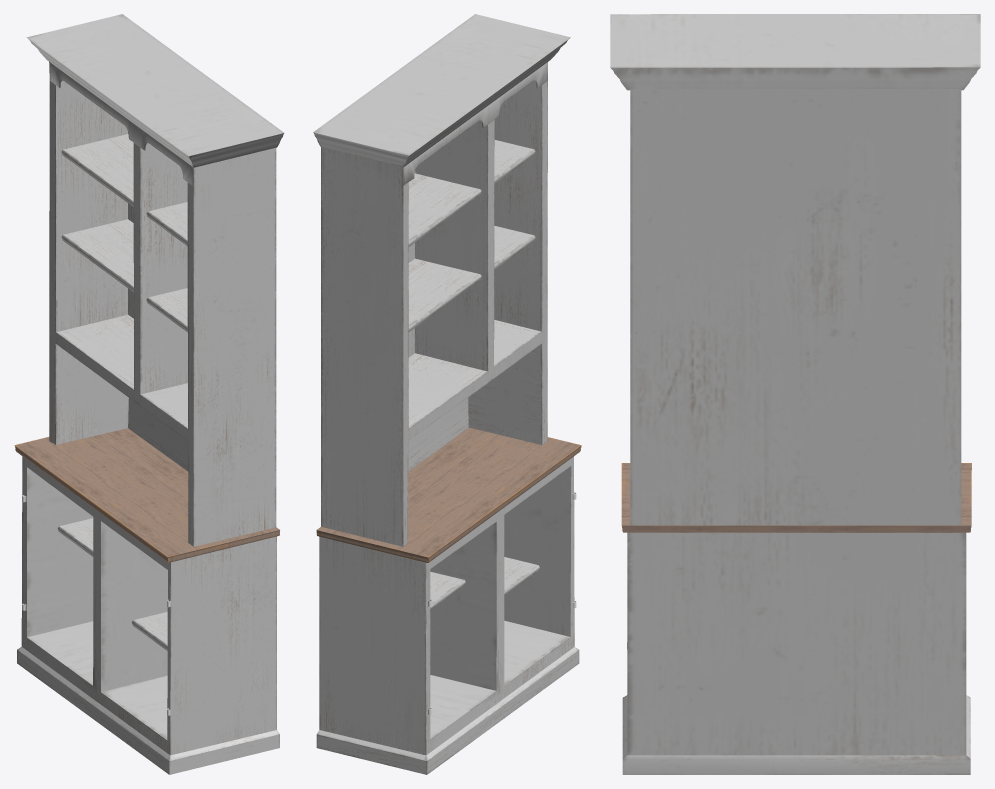
File: SM_BookShelf_A.fbx
3 renders of one model, left to right at view 1: azimuth 30°, elevation 25°; view 2: azimuth 150°, elevation 25°; view 3: azimuth 270°, elevation 25°, orthographic. The views are drawn at different scales.
Parts seen in each view (by area): view 1: SM_BookShelf_A; view 2: SM_BookShelf_A; view 3: SM_BookShelf_A.
Boxes of the visible parts, x1,y1,x2,y2 form: SM_BookShelf_A: [14, 14, 284, 774]; SM_BookShelf_A: [313, 14, 581, 774]; SM_BookShelf_A: [610, 14, 980, 774].
Bounding box in the file's own units: 41.84 × 104 × 220.
1 material, 1 textured.
